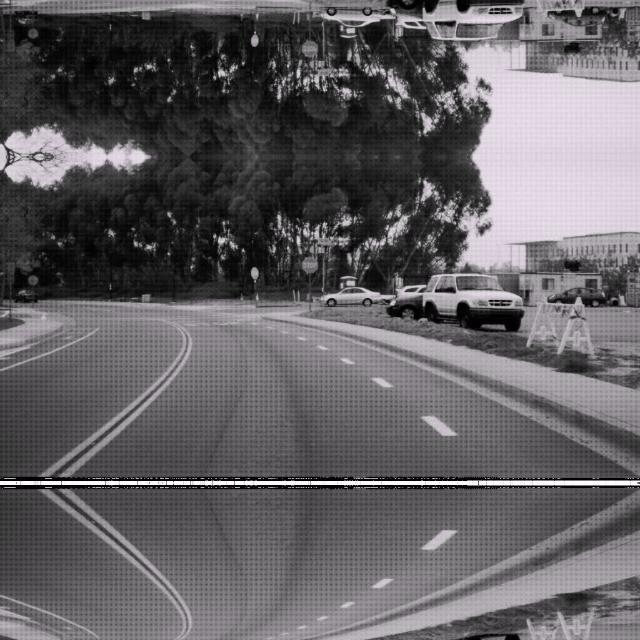stop: (301, 255, 317, 272), (301, 40, 317, 56), (250, 266, 258, 278), (250, 34, 258, 46)
